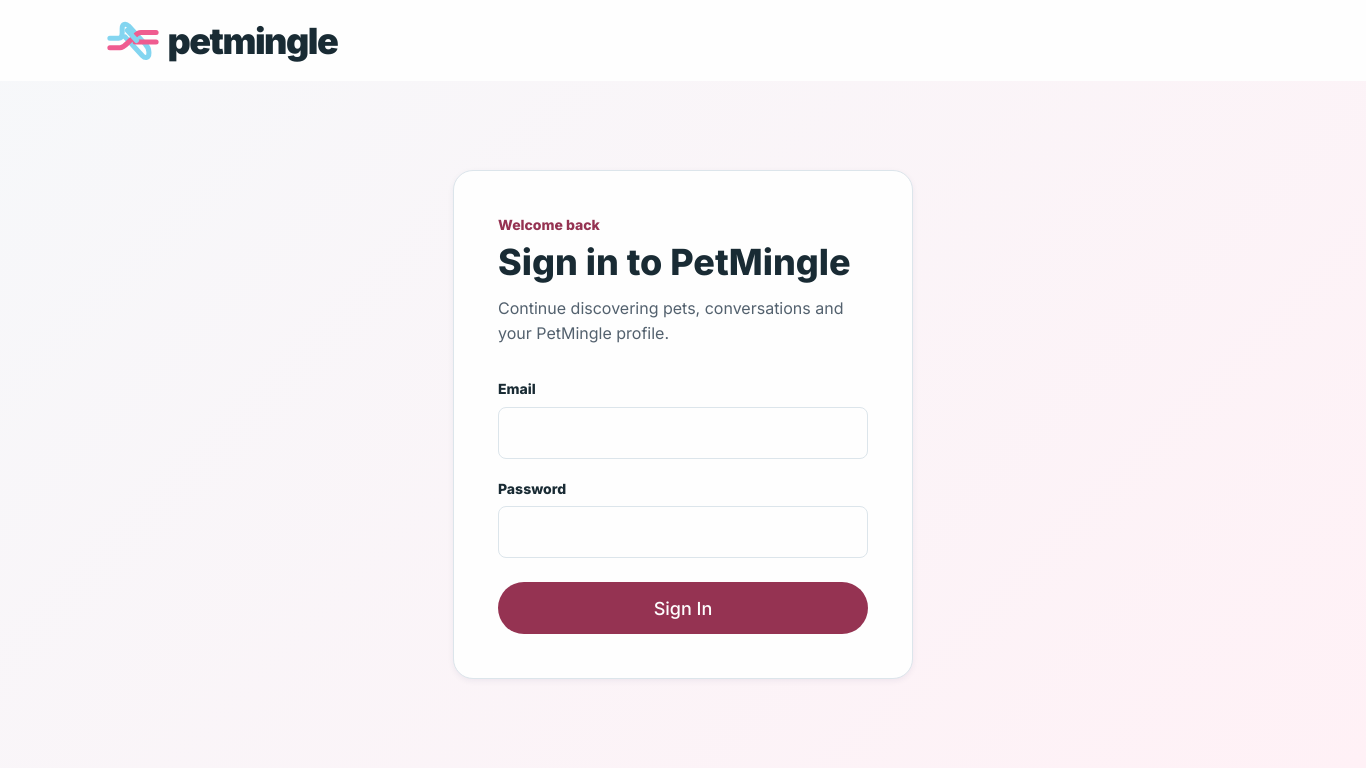
Scenario: SignInPage › validates the form before attempting sign in
Click the button "Sign In".
click(683, 608)  # box [498,582,868,634]
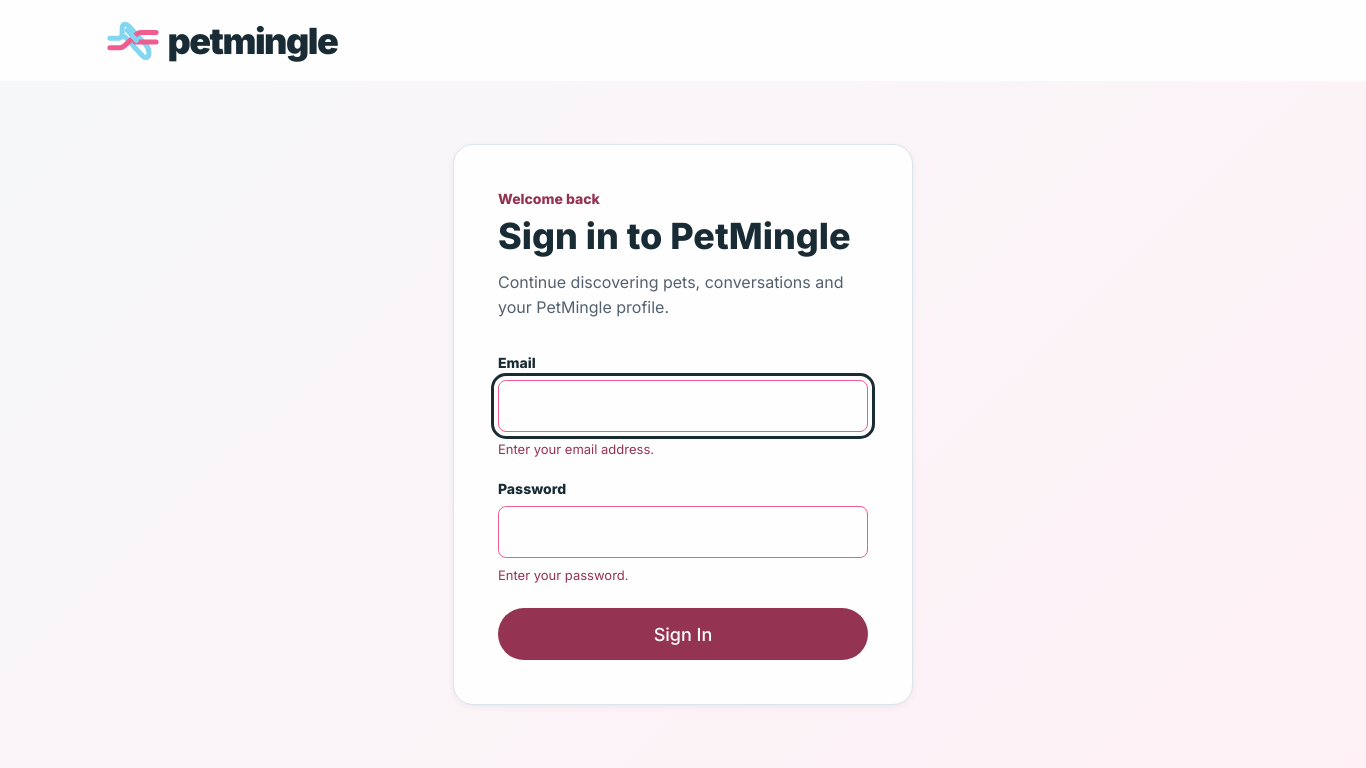
Expected: the text "Enter your email address." is shown, [498,441,654,457]
Expected: the text "Enter your password." is shown, [498,567,628,583]
